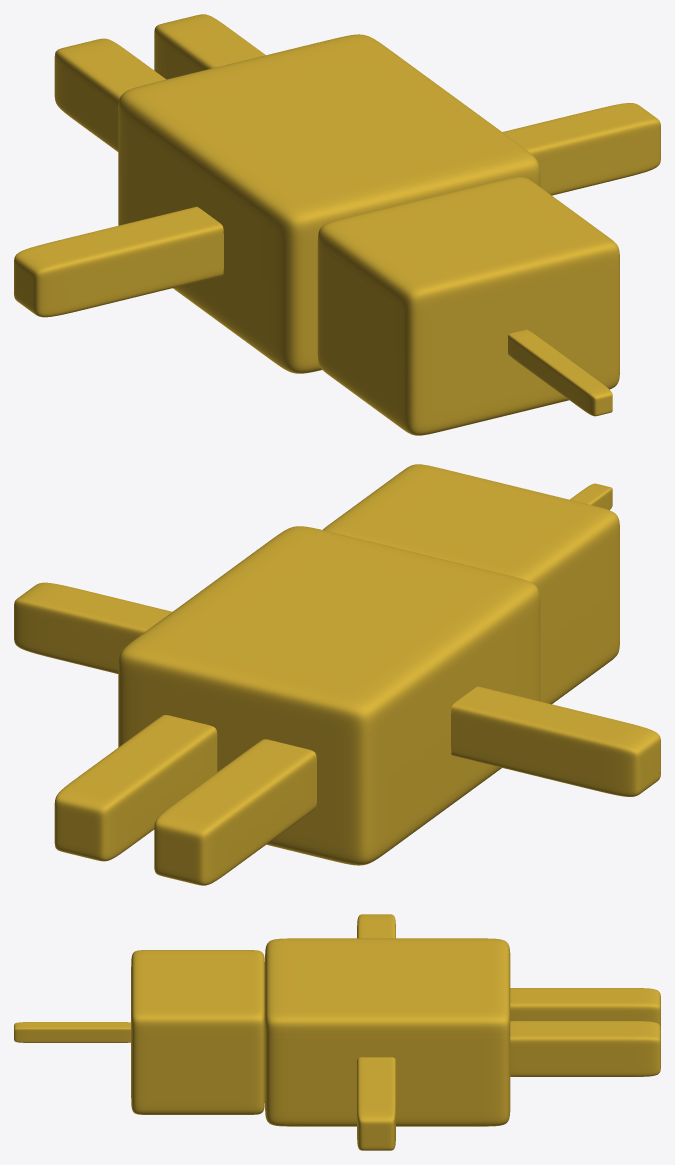
Rendered from retro_robot_toy_sq.glb.
3 renders of one model, top to bottom at view 1: azimuth 30°, elevation 25°; view 2: azimuth 150°, elevation 25°; view 3: azimuth 270°, elevation 25°, orthographic. The views are drawn at different scales.
Visible parts, largest first — view 1: superquadric_0, superquadric_1, superquadric_3, superquadric_4, superquadric_5, superquadric_6, superquadric_8; view 2: superquadric_0, superquadric_1, superquadric_3, superquadric_5, superquadric_6, superquadric_4, superquadric_8; view 3: superquadric_0, superquadric_1, superquadric_6, superquadric_5, superquadric_4, superquadric_8, superquadric_3.
Part boxes in pixels (x1,y1,x2,y2): superquadric_0: (118,34,540,373); superquadric_1: (317,177,619,435); superquadric_3: (14,206,223,317); superquadric_4: (502,103,660,195); superquadric_5: (54,38,166,151); superquadric_6: (154,14,265,79); superquadric_8: (508,329,612,416); superquadric_0: (118,526,540,865); superquadric_1: (323,464,619,704); superquadric_3: (451,686,660,796); superquadric_5: (154,739,316,885); superquadric_6: (54,715,217,861); superquadric_4: (14,582,172,673); superquadric_8: (570,483,612,509); superquadric_0: (265,938,510,1126); superquadric_1: (131,950,264,1114); superquadric_6: (510,1021,660,1076); superquadric_5: (510,988,660,1028); superquadric_4: (357,1057,395,1150); superquadric_8: (14,1022,130,1042); superquadric_3: (357,914,395,938).
Bounding box in the file's own units: 0.7586 × 0.2043 × 1.
